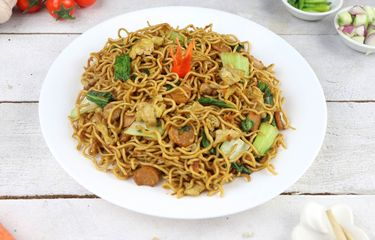Mie: (92, 20, 303, 204)
